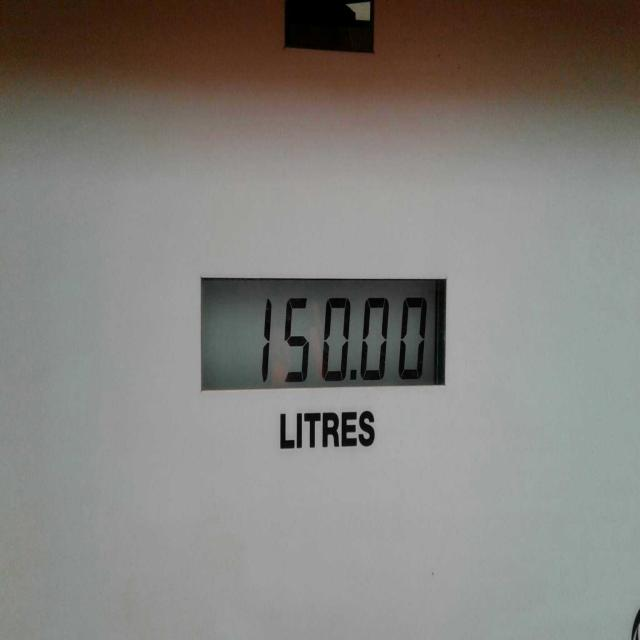.: (348, 363, 359, 390)
0: (312, 275, 350, 392), (357, 292, 393, 385), (394, 290, 428, 382)
1: (255, 294, 279, 398)
5: (278, 294, 315, 386)
